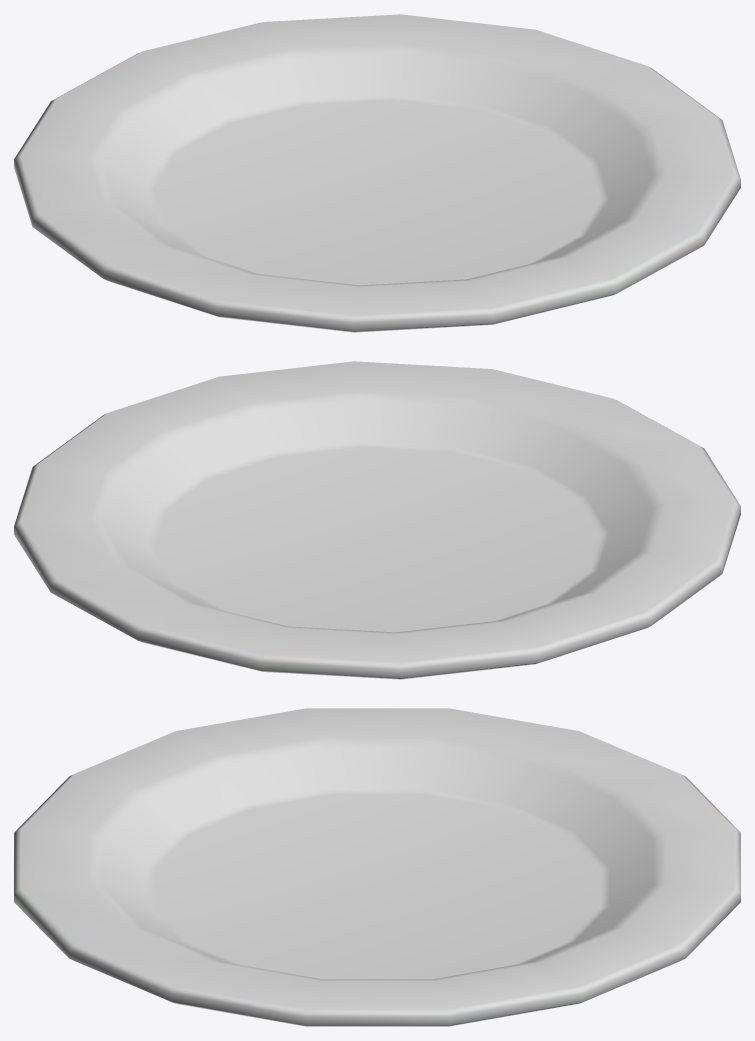
The model's file is M_piring.fbx.
The picture shows the model from 3 angles, top to bottom: view 1: azimuth 30°, elevation 25°; view 2: azimuth 150°, elevation 25°; view 3: azimuth 270°, elevation 25°; orthographic projection.
Visible parts, largest first — view 1: Plate.005; view 2: Plate.005; view 3: Plate.005.
Part boxes in pixels (x1,y1,x2,y2): Plate.005: (14, 14, 740, 332); Plate.005: (14, 361, 740, 679); Plate.005: (14, 708, 740, 1026).
Bounding box in the file's own units: 31.27 × 2.16 × 31.27.
